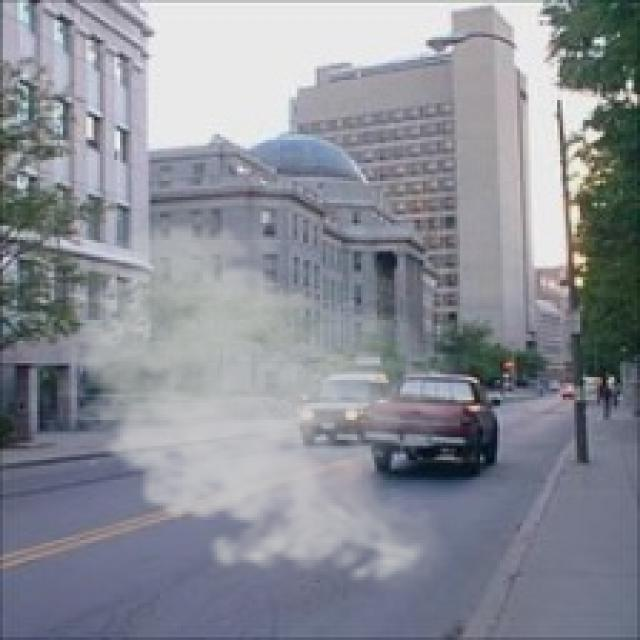smoke: (49, 215, 474, 594)
